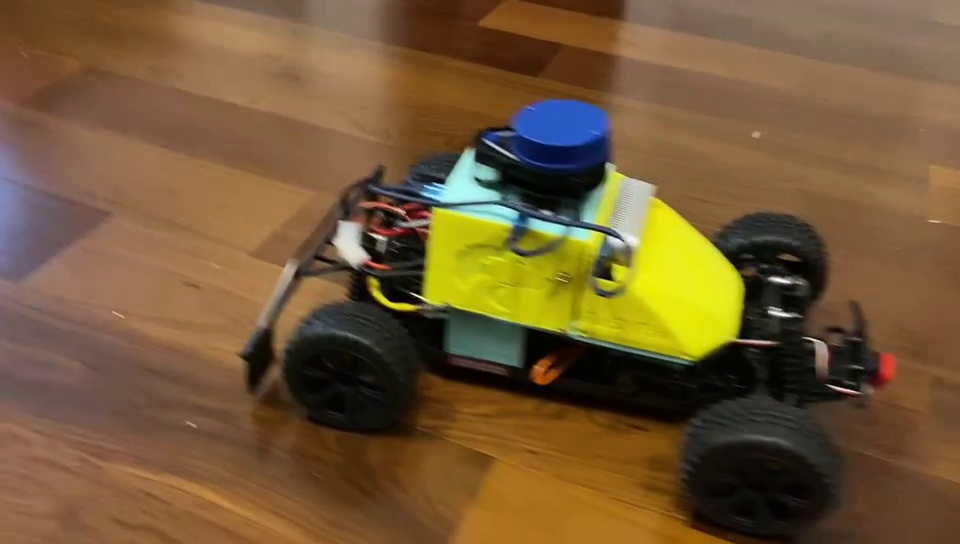mushr_car: (248, 88, 901, 539)
